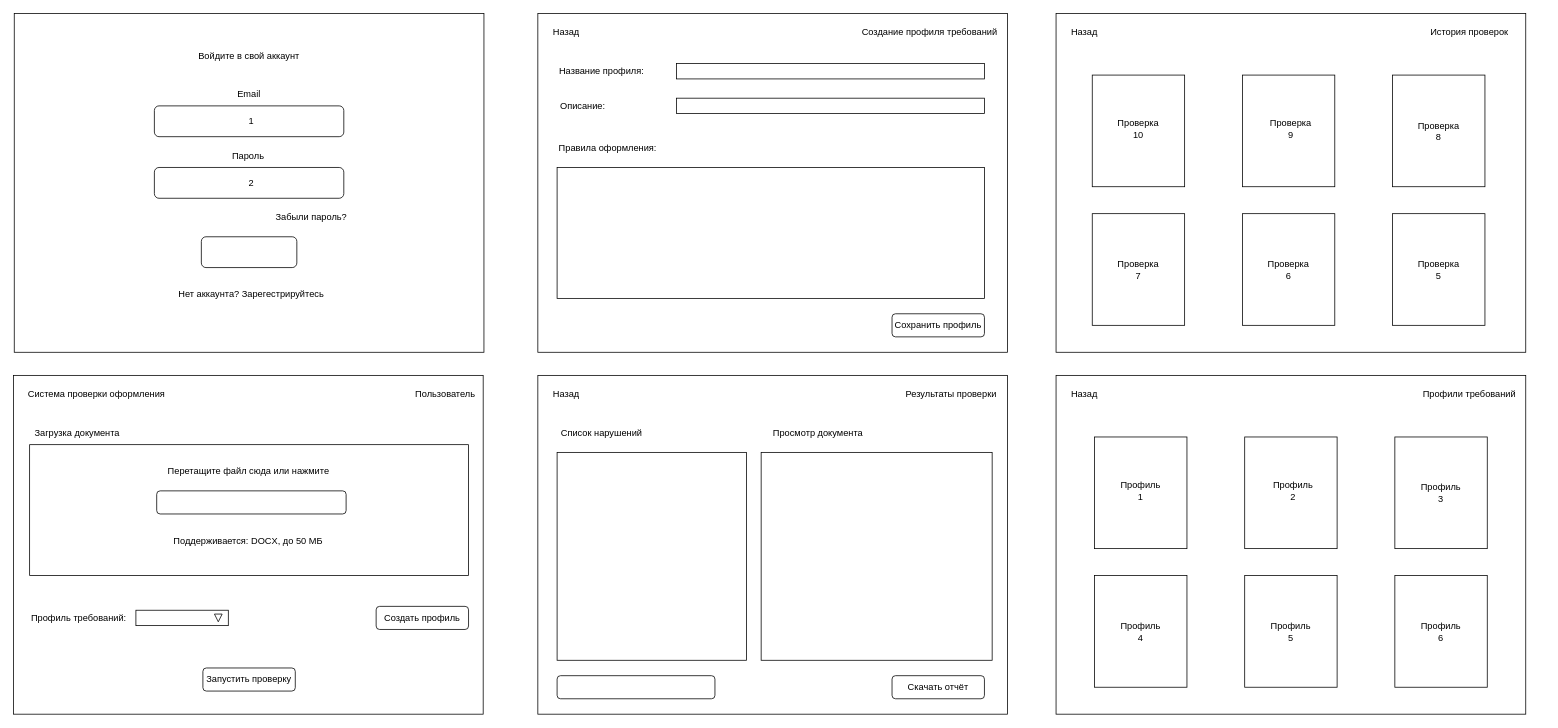
The diagram is 1558 pixels wide and 728 high, and some of its shapes have lost their labels. Each missing label, with the box of its shape:
Войти: (201, 236, 297, 268)
Выбрать файл DOCX: (156, 490, 346, 514)
ГОСТ: (135, 609, 228, 626)
Документ: (760, 452, 992, 660)
Настройки: (556, 167, 984, 298)
Ошибки: (556, 452, 747, 660)
Скачать документ с пометками: (556, 675, 715, 699)
